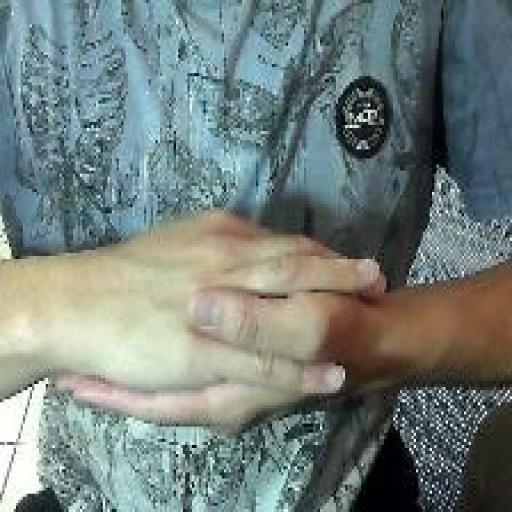Saru -monkey-: (51, 202, 390, 446)
